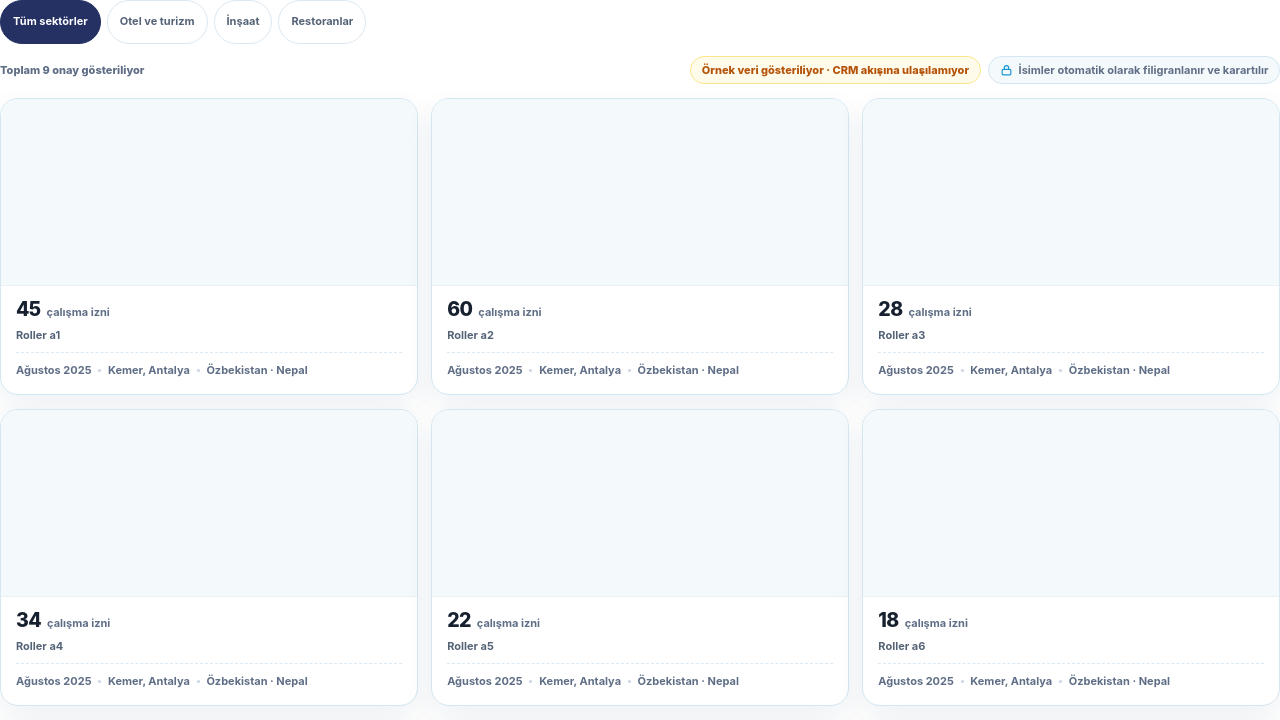
ApprovalsWall (parity pass — design #cases, W148) › shows the per-sector empty state with a reset when a chip has no card
Click the radio button labelled "Restoranlar" at (322, 22), box x1=278 y1=0 x2=366 y2=44
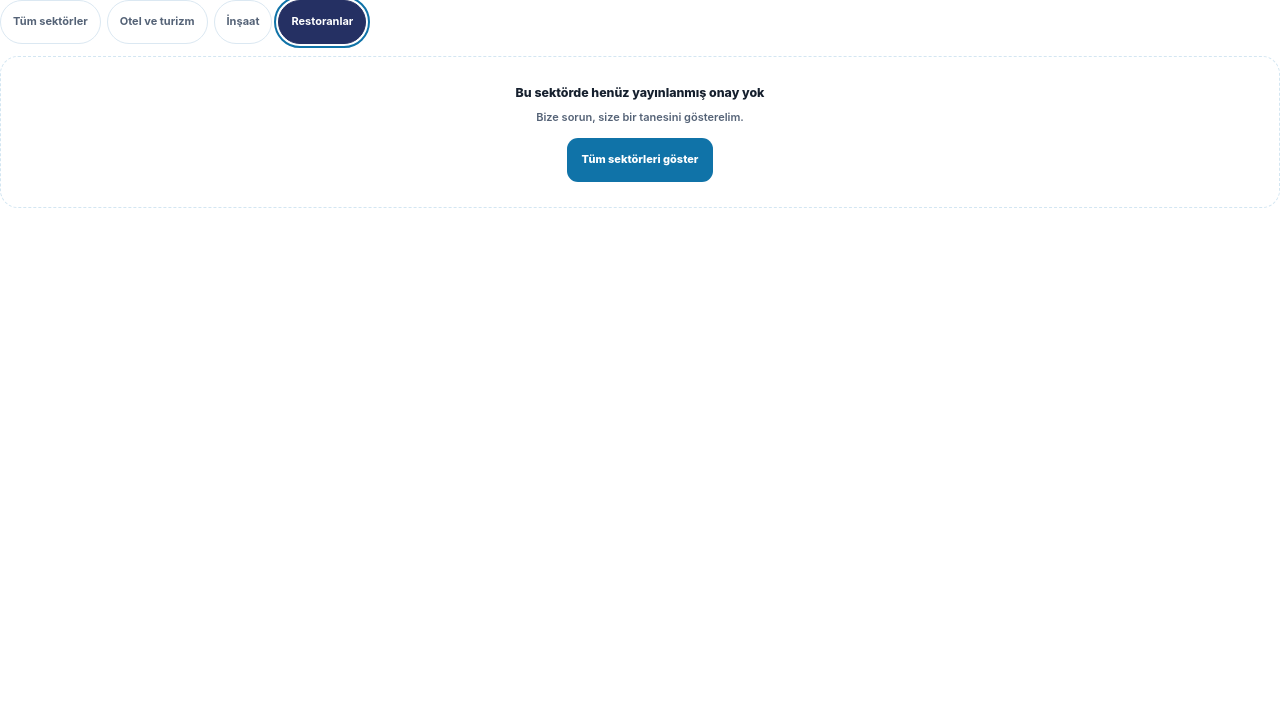
Now the heading "Bu sektörde henüz yayınlanmış onay yok" is shown, box x1=516 y1=82 x2=764 y2=102
Click the button "Tüm sektörleri göster" at (640, 160), box x1=566 y1=138 x2=714 y2=182
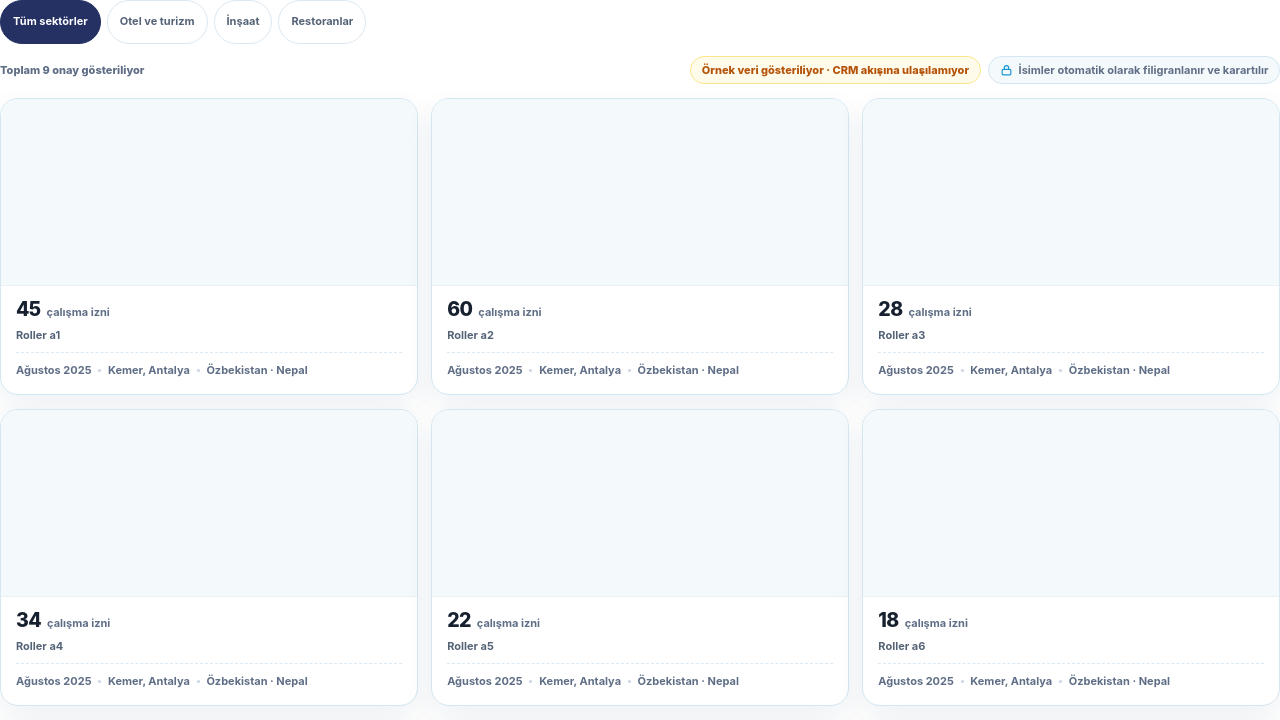
Now the radio button labelled "Tüm sektörler" is checked, box x1=0 y1=0 x2=101 y2=44
